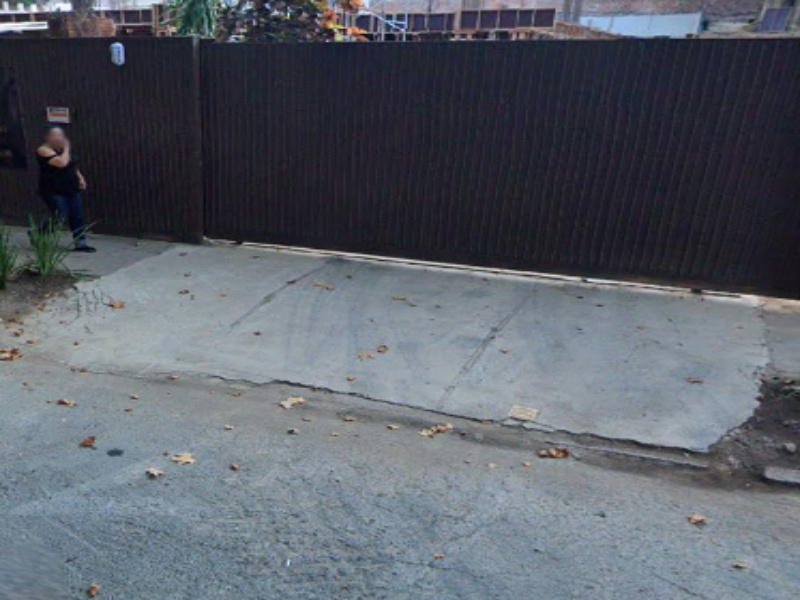g91: (6, 314, 708, 506)
